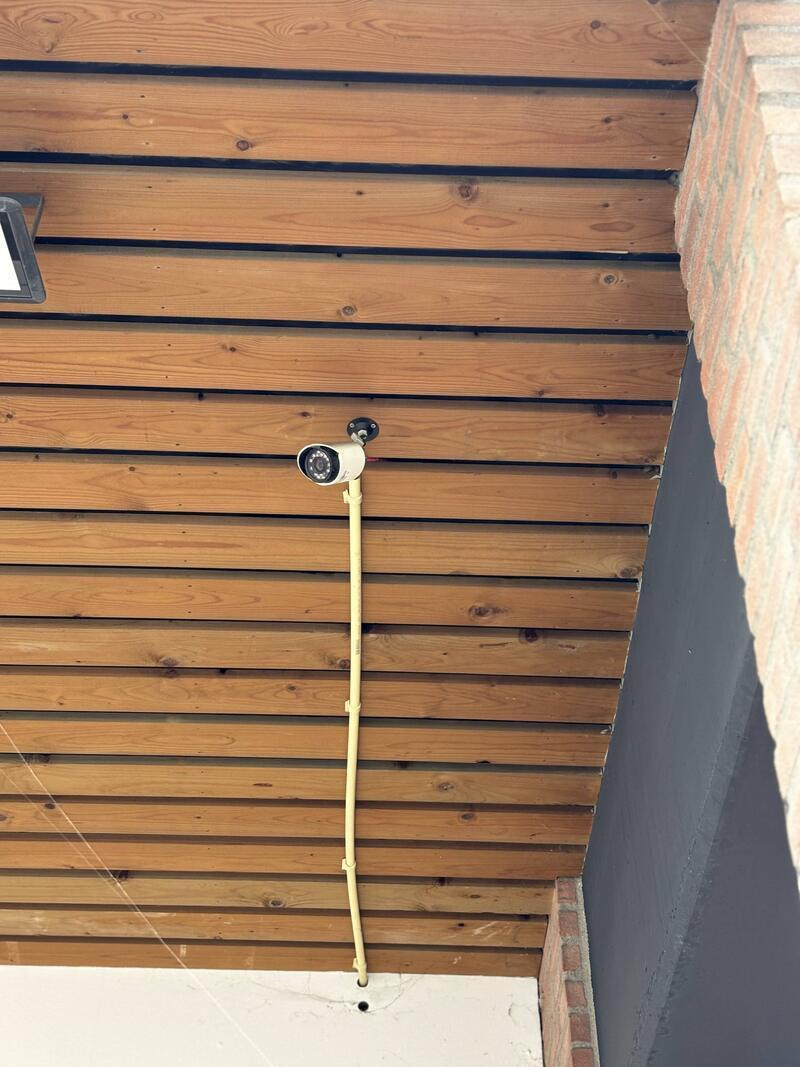bullet: (284, 427, 381, 493)
